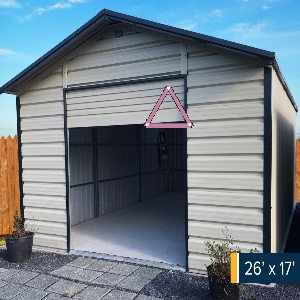triangle: (139, 84, 195, 130)
